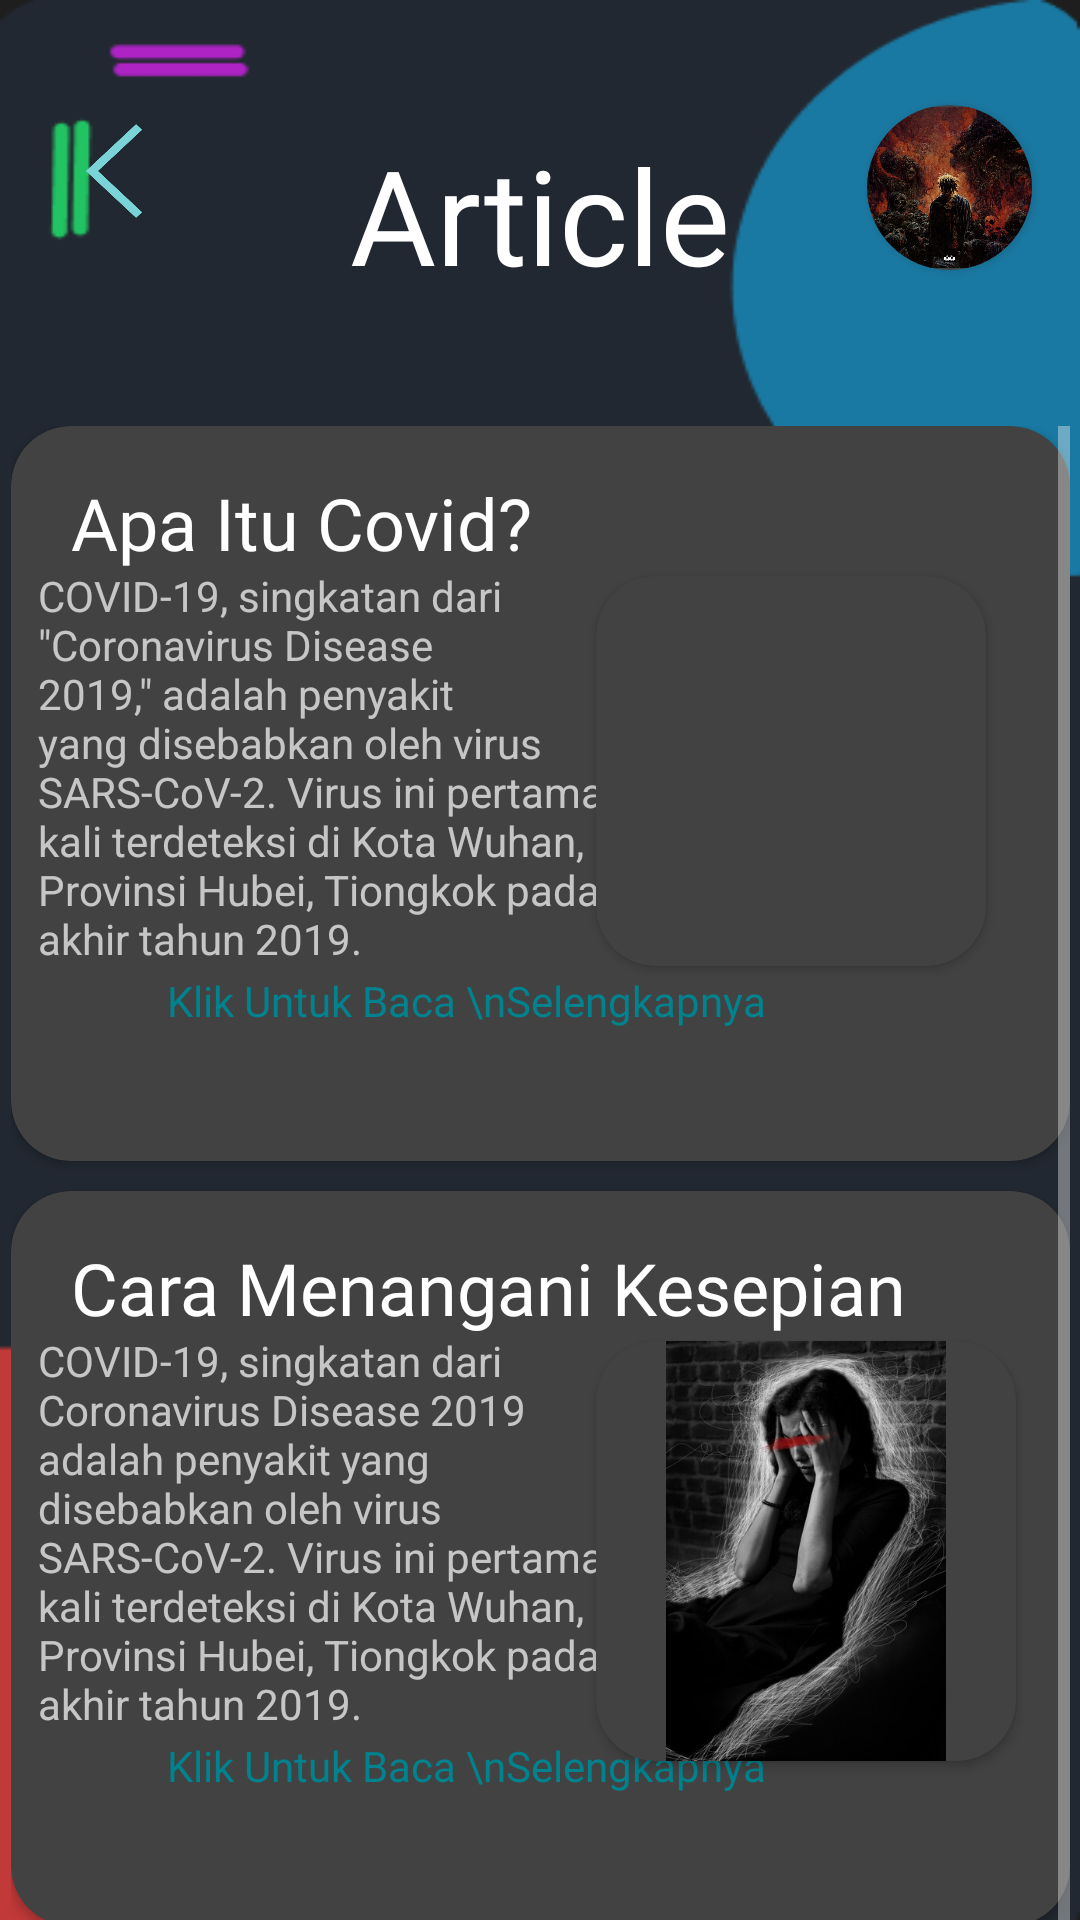

Screen size 1080px×1920px. Icon name, then its center in pixels as [x,y]:
hell: [949,187]
